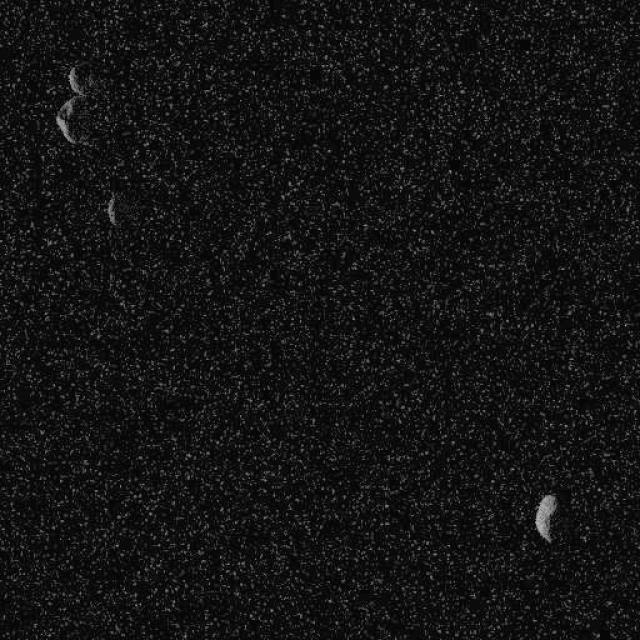D2: (54, 59, 101, 146), (532, 492, 558, 542), (105, 195, 116, 225)
